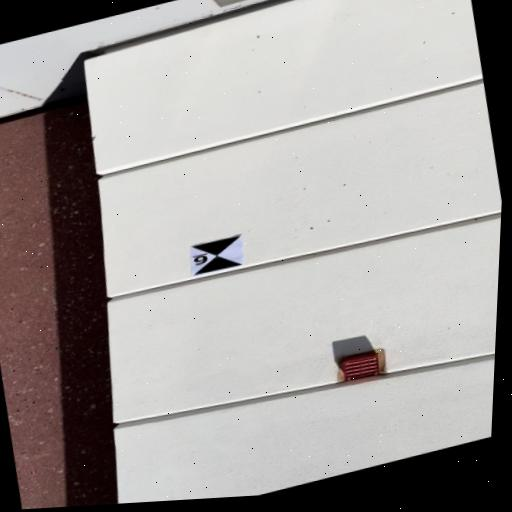target6: (191, 233, 243, 275)
